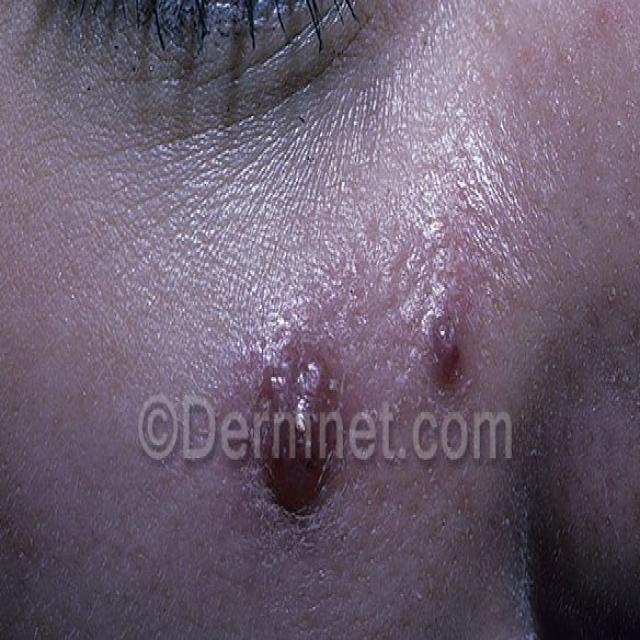Vascular Tumors: (224, 299, 361, 541), (412, 276, 485, 382)
